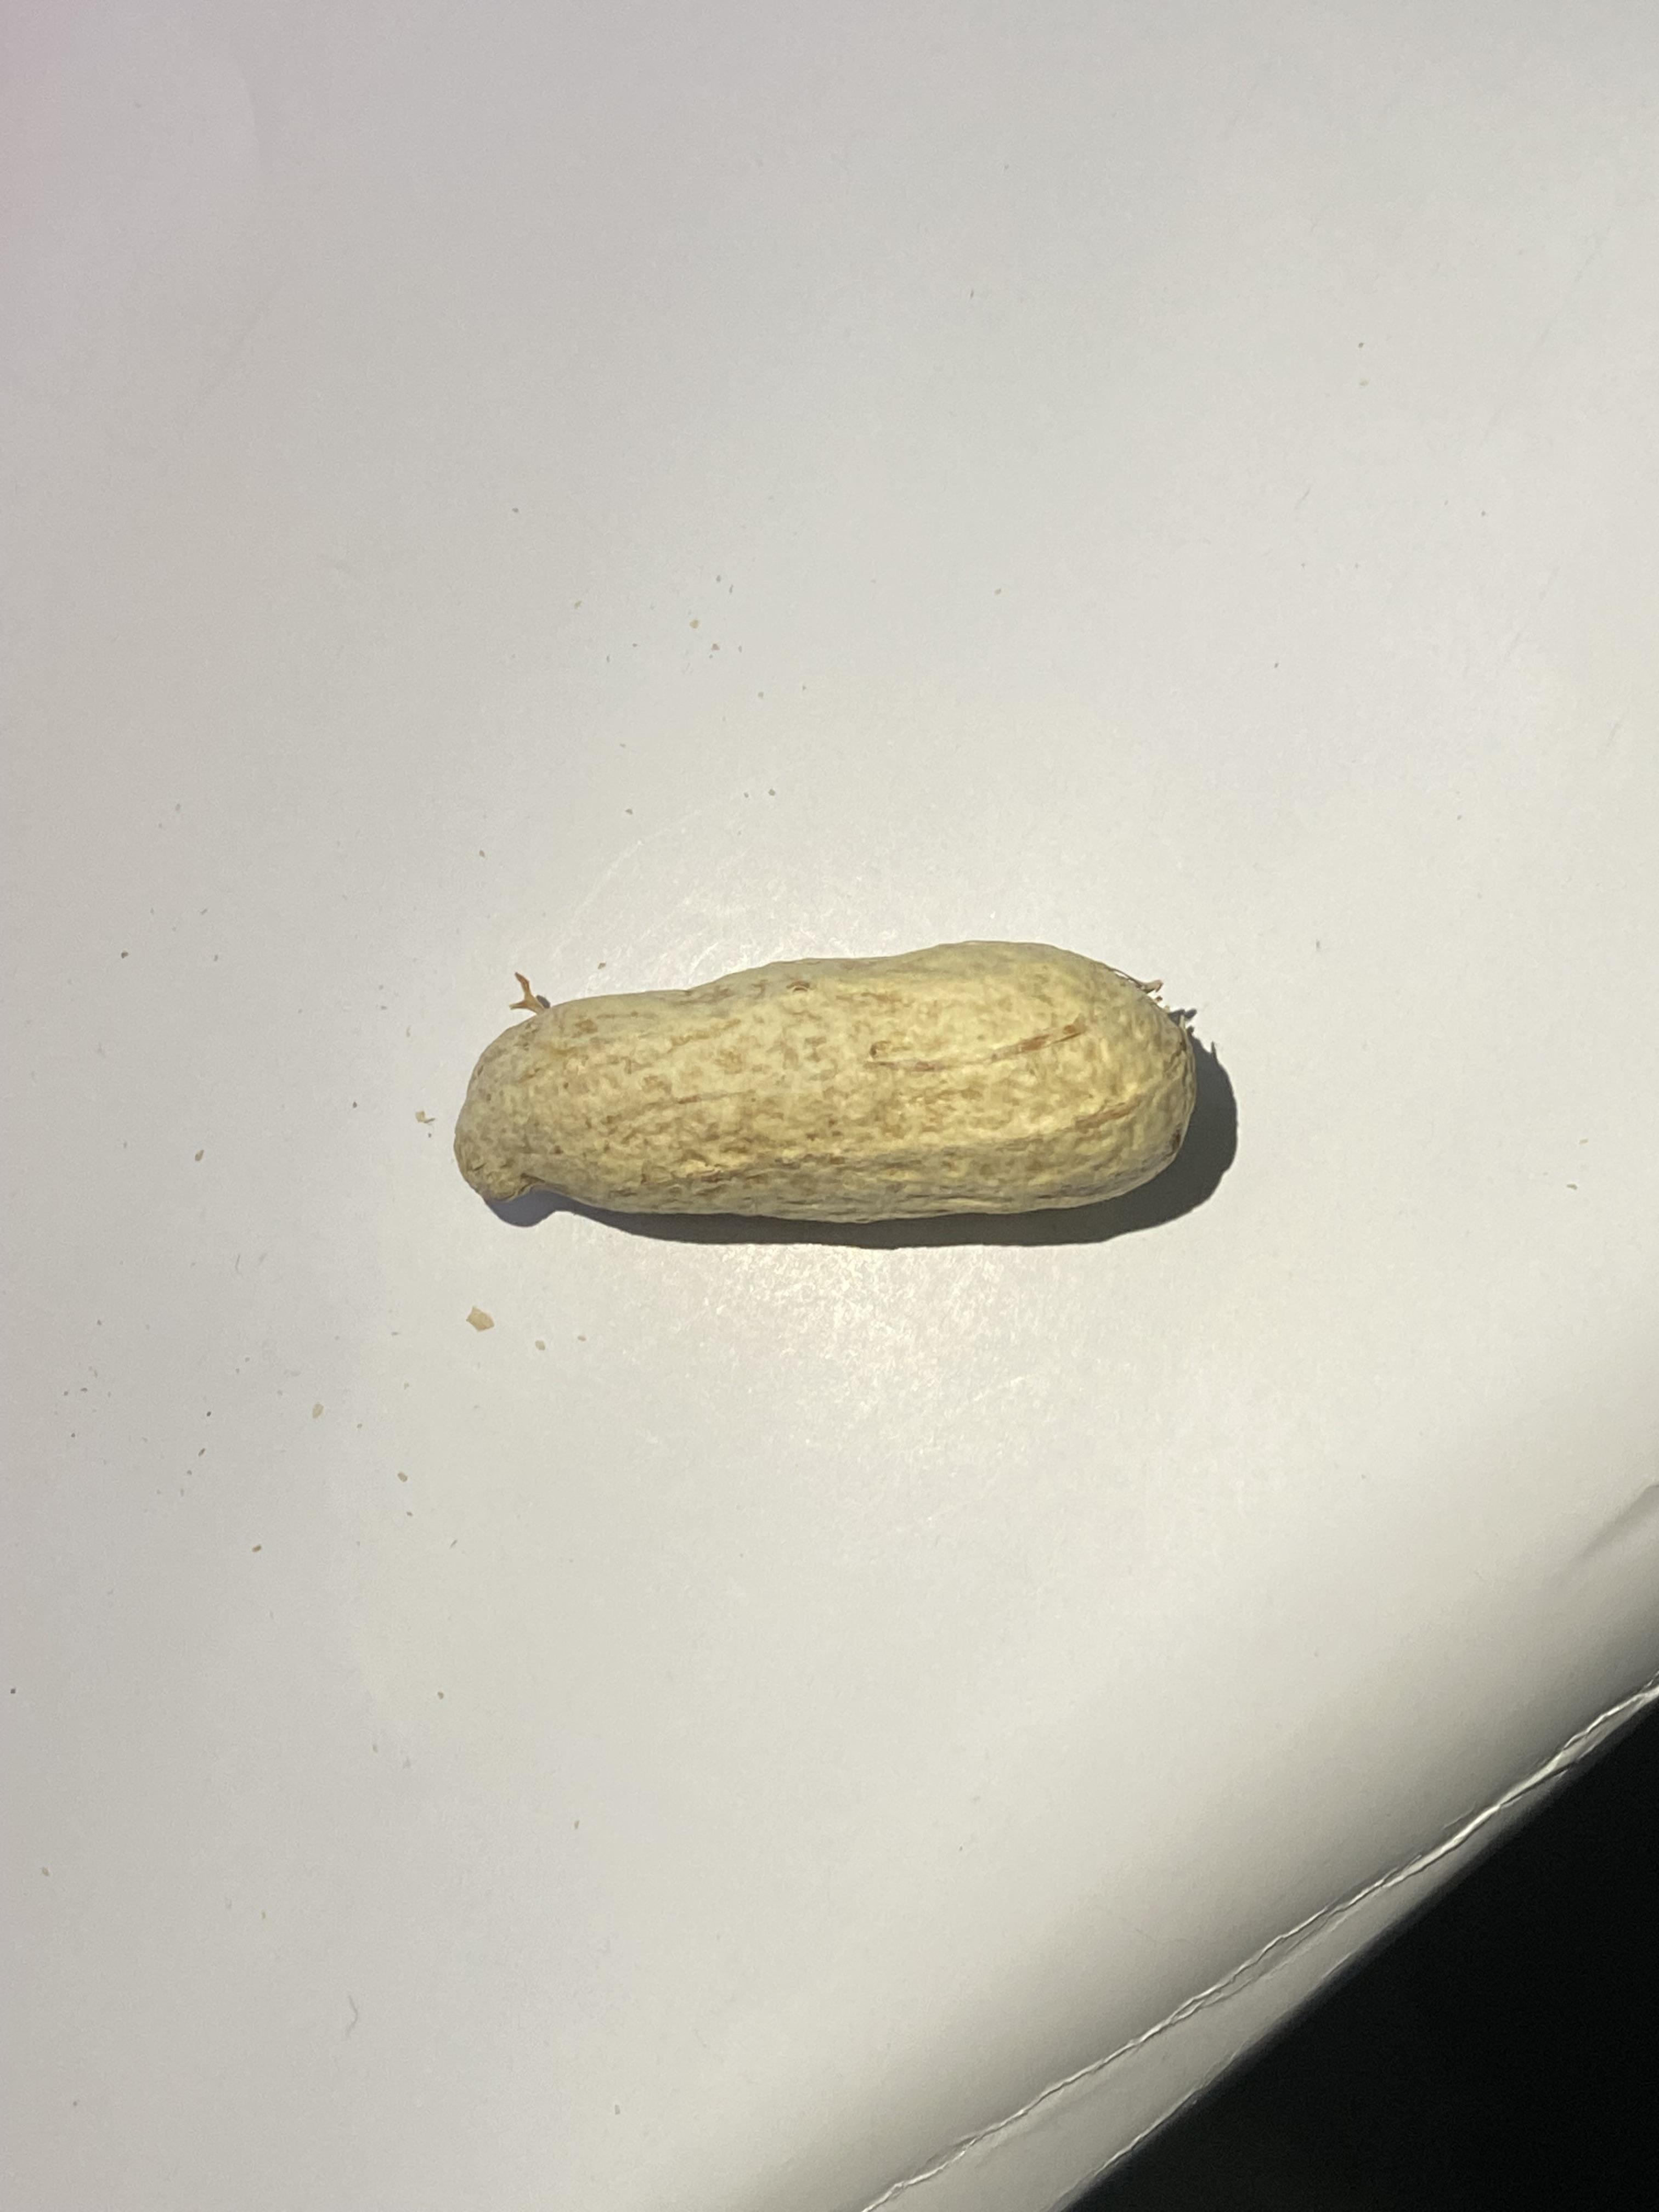kacang3: (385, 918, 1260, 1261)
